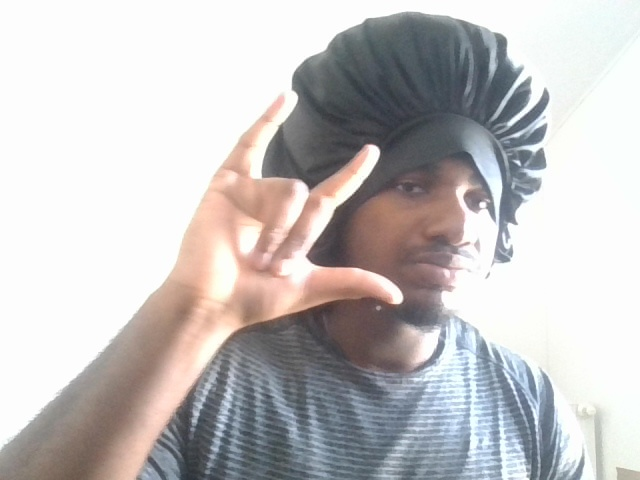I Love You: (98, 95, 405, 314)
